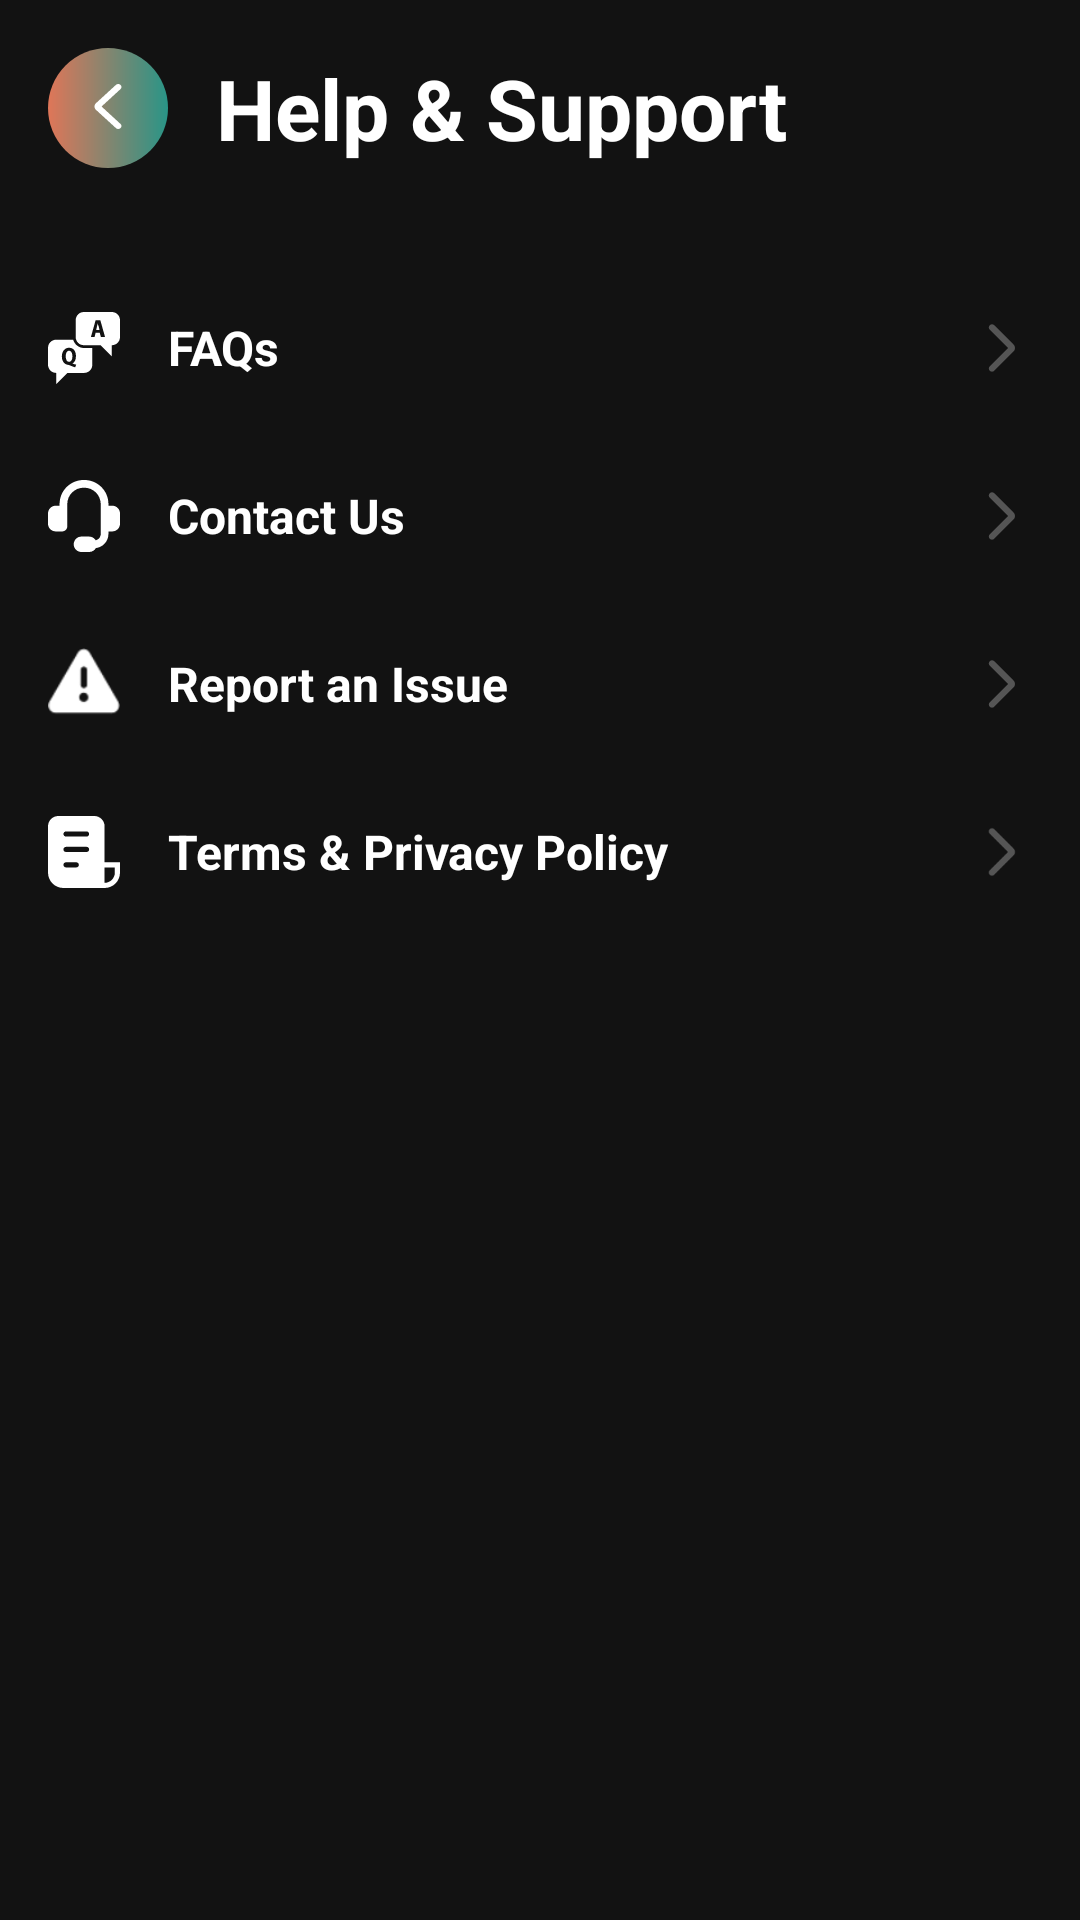

Icons on this 1080x1920 Android screen, each with the point to tap as (x,y):
alert: (84,681)
back arrow: (108,108)
customer support: (84,516)
faq: (84,348)
forward arrow: (1002,348), (1002,516), (1002,684), (1002,852)
